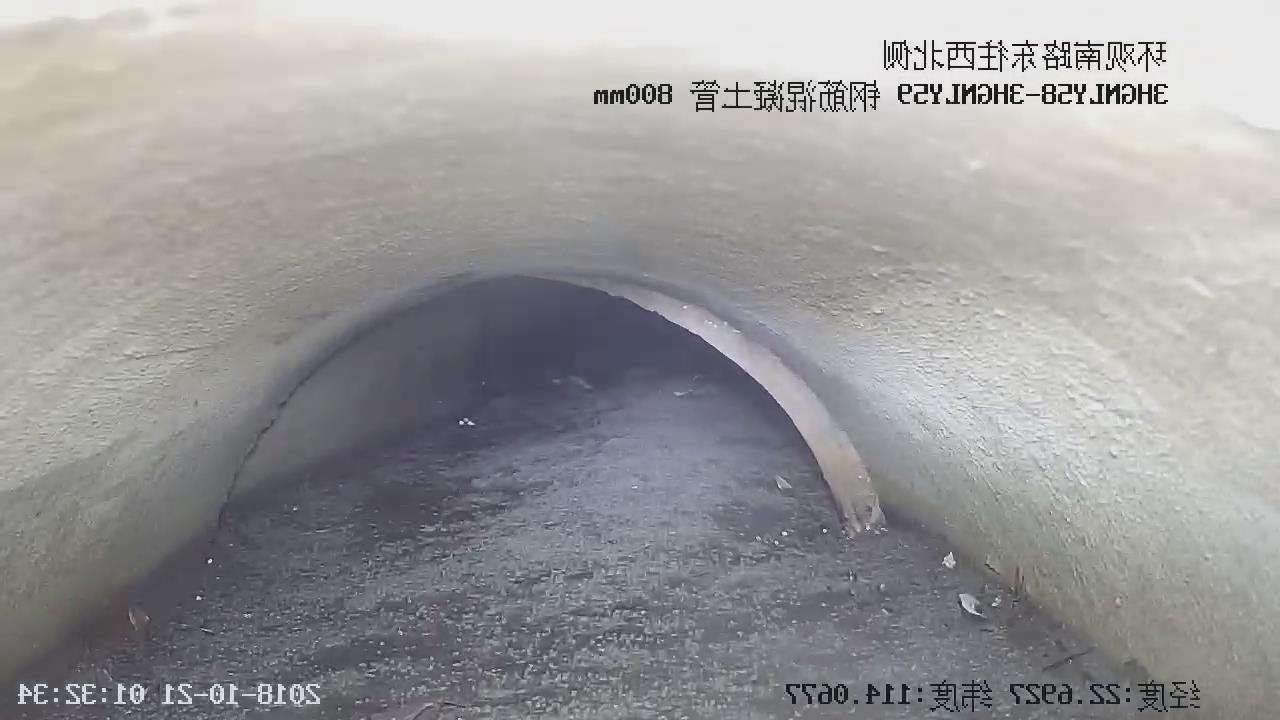CJ: (1, 371, 1063, 719)
CKTJ: (594, 281, 884, 533)
